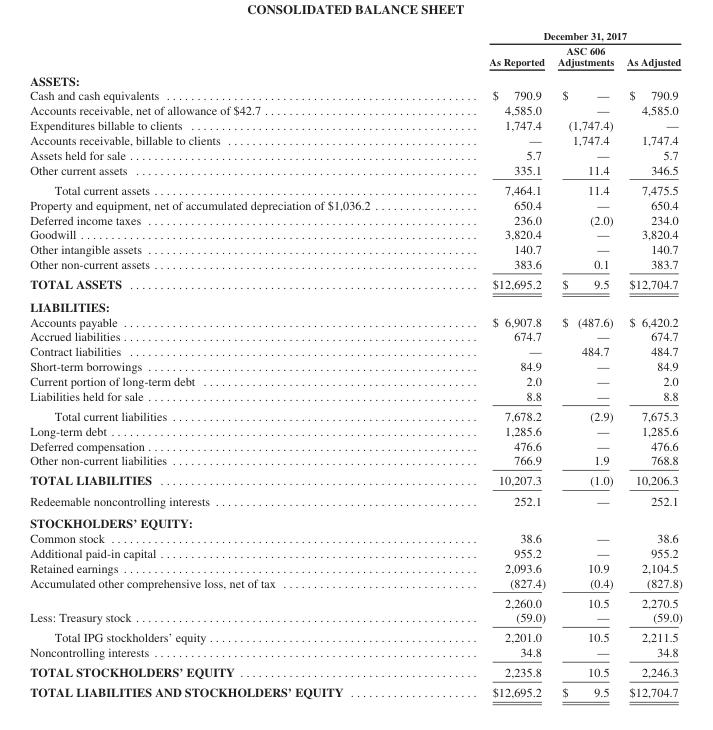table: (29, 29, 681, 699)
table column: (29, 29, 429, 699), (429, 29, 550, 699), (550, 29, 619, 699), (619, 29, 681, 699)
table column header: (29, 29, 681, 70)
table projected row header: (29, 511, 681, 530), (29, 295, 681, 313), (29, 70, 681, 87)
table row: (29, 42, 681, 70), (29, 273, 681, 295), (29, 490, 681, 511), (29, 470, 681, 490), (29, 661, 681, 681), (29, 511, 681, 530), (29, 179, 681, 197), (29, 295, 681, 313), (29, 405, 681, 423), (29, 452, 681, 470), (29, 574, 681, 592), (29, 609, 681, 627), (29, 681, 681, 699), (29, 70, 681, 87), (29, 162, 681, 179), (29, 256, 681, 273), (29, 388, 681, 405), (29, 592, 681, 609), (29, 627, 681, 644), (29, 644, 681, 661), (29, 87, 681, 102), (29, 102, 681, 117), (29, 117, 681, 132), (29, 132, 681, 147), (29, 147, 681, 162), (29, 211, 681, 226), (29, 226, 681, 241), (29, 241, 681, 256), (29, 313, 681, 328), (29, 328, 681, 343), (29, 343, 681, 358), (29, 358, 681, 373), (29, 373, 681, 388), (29, 437, 681, 452), (29, 530, 681, 545), (29, 545, 681, 560), (29, 197, 681, 211), (29, 423, 681, 437), (29, 560, 681, 574), (29, 29, 681, 42)
table spanning cell: (429, 29, 681, 42)
